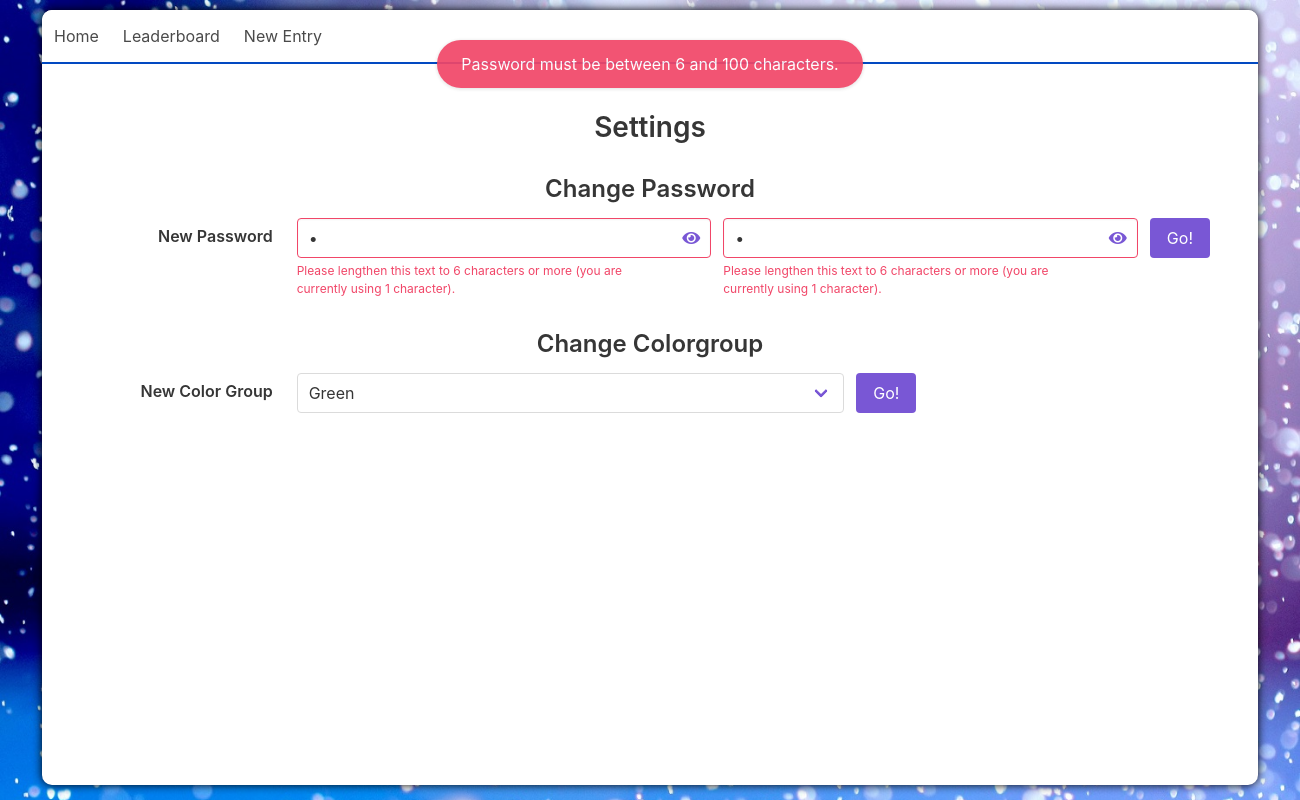
Test: Settings Page › change password › shows error if passwords do not match
Type "test password1" into the 1st password field at [505, 239], box 297,219 -> 712,259
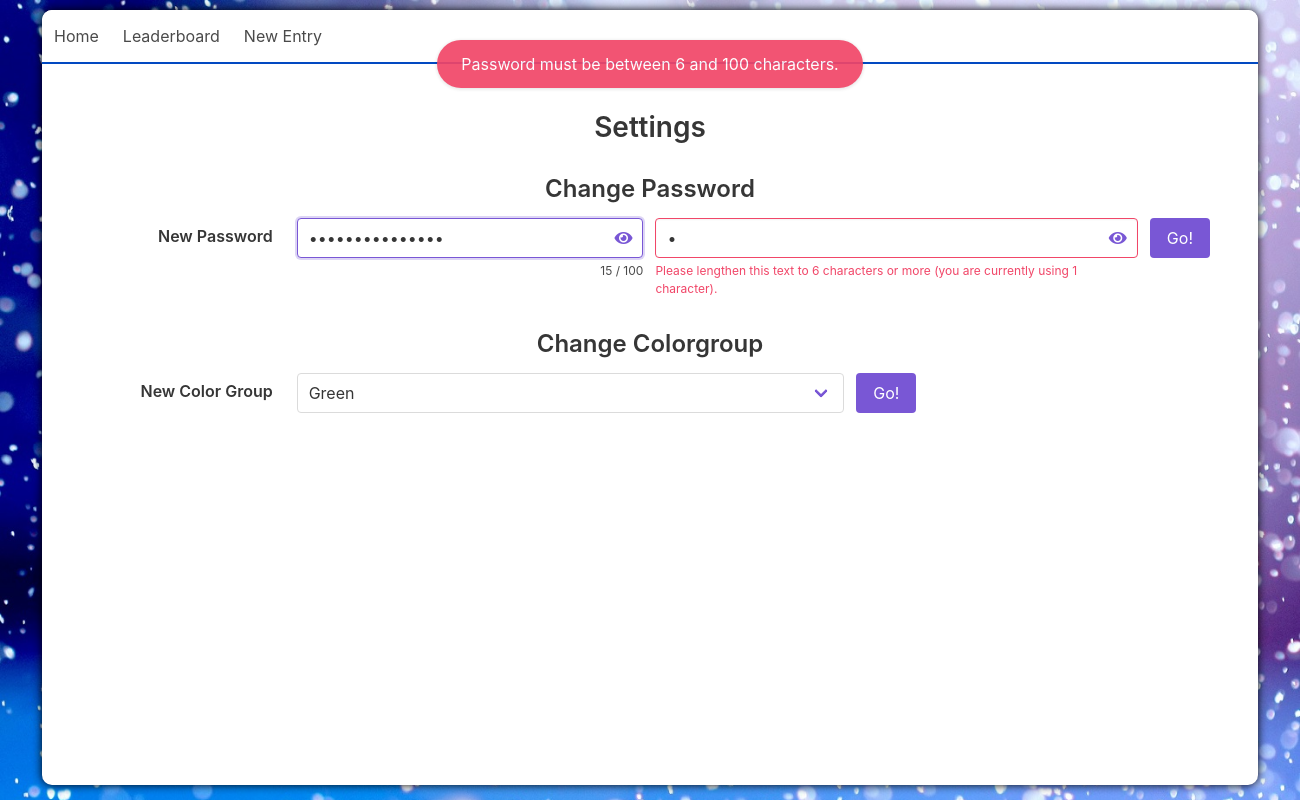
Type "test password2" into the 2nd password field at [897, 239], box 655,219 -> 1138,259
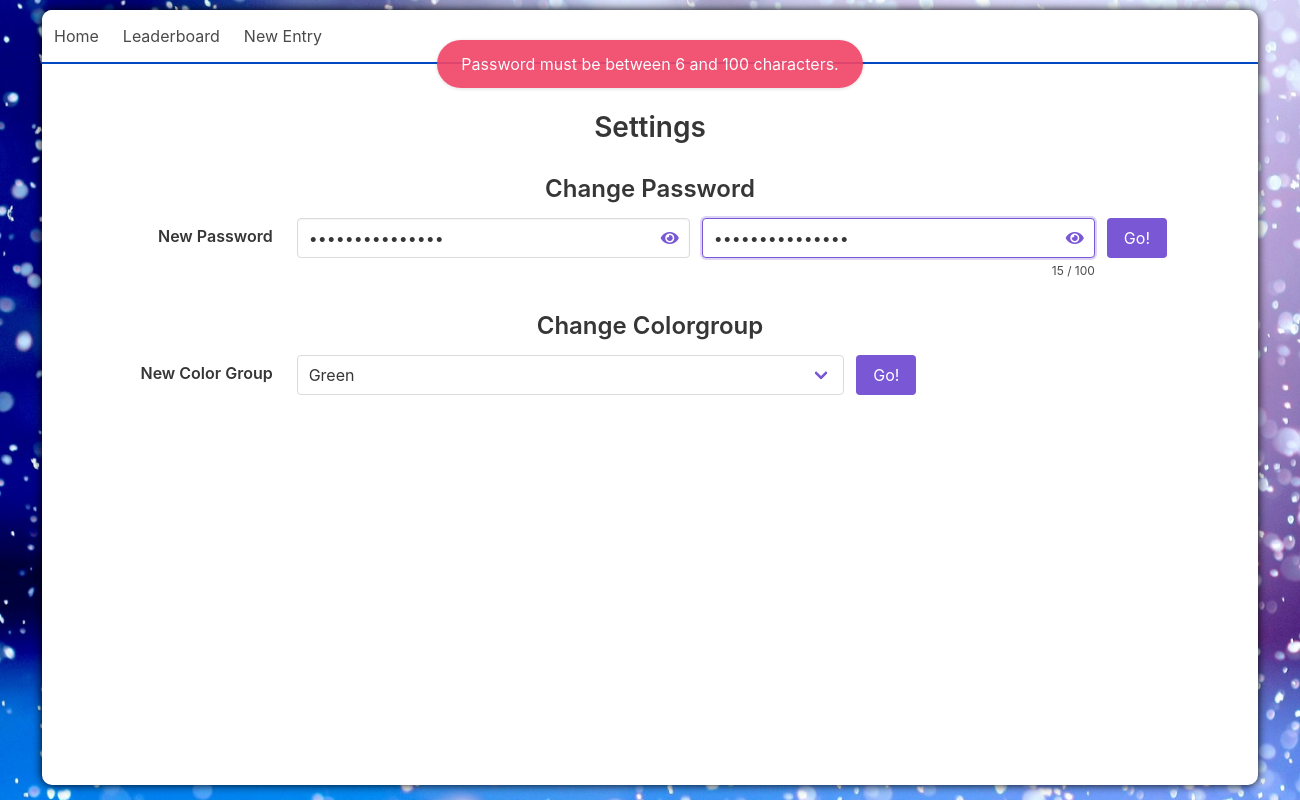
Click the button with id "save-pass-button" at [1137, 239], box 1107,219 -> 1167,259
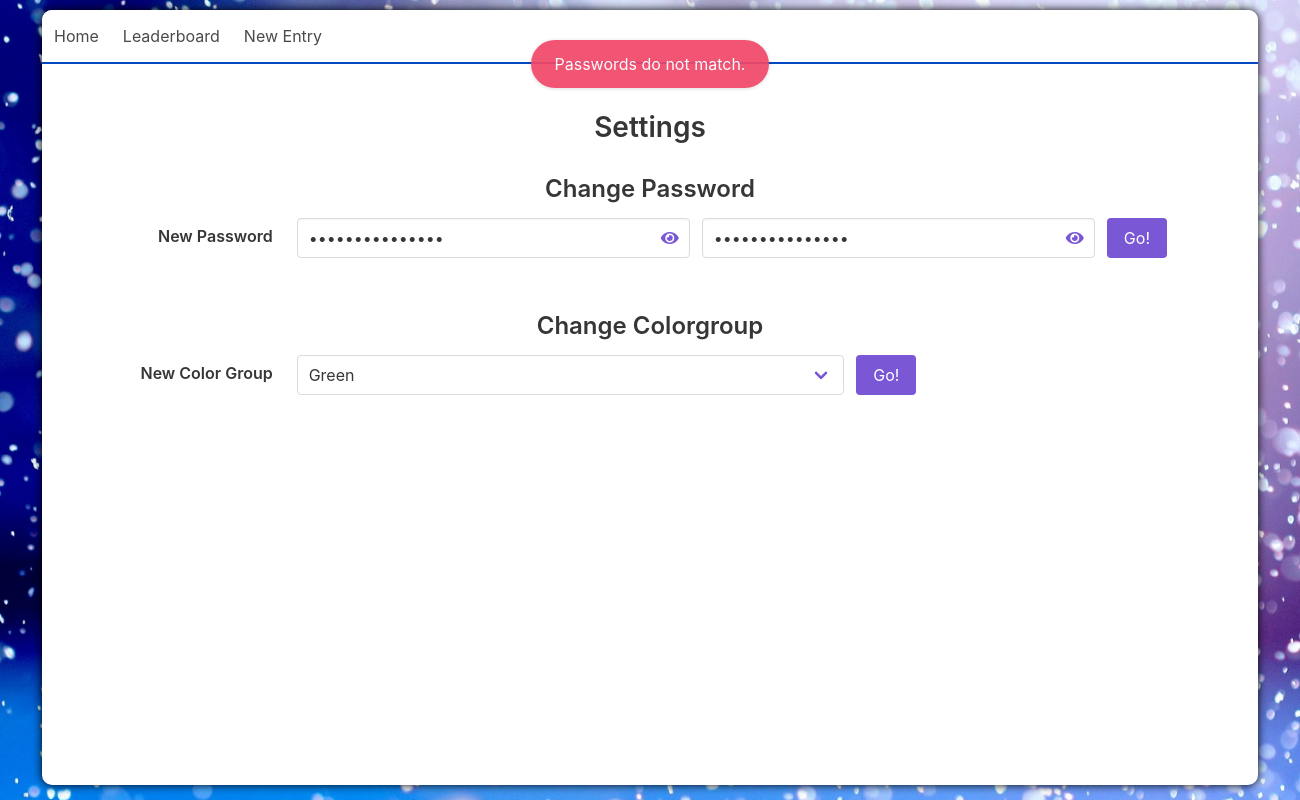
Check: the text "Passwords do not match" is shown, box 555,54 -> 746,74
